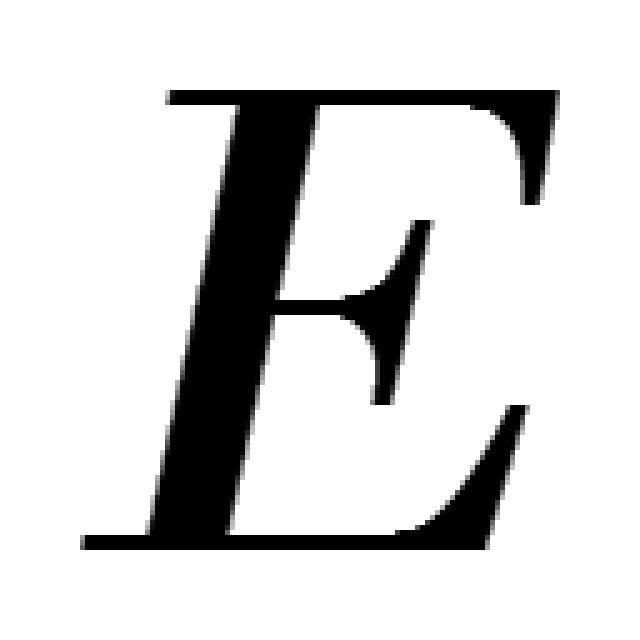E: (80, 90, 560, 550)
